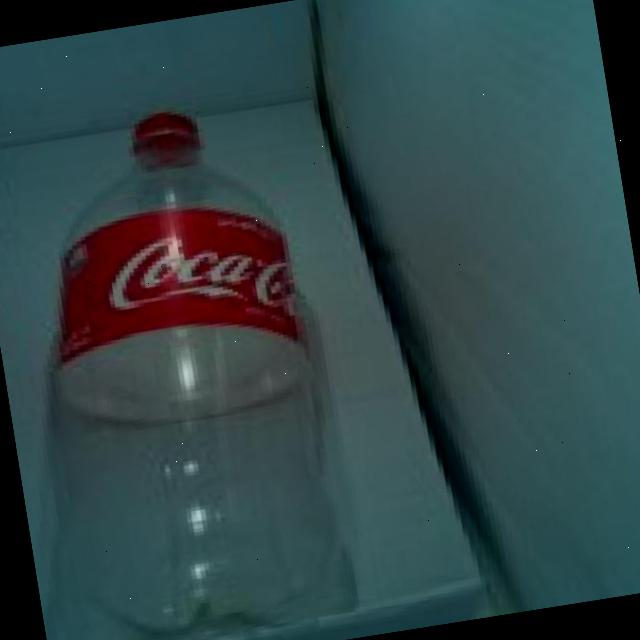trash: (0, 63, 374, 640)
